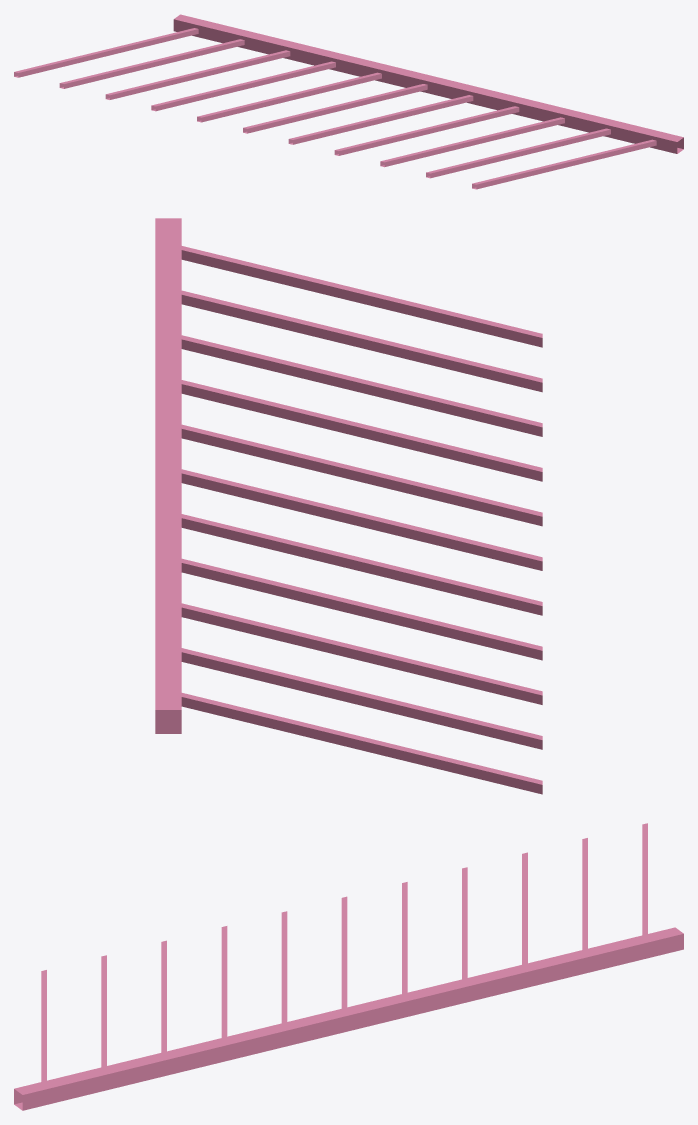
File: StepsHandle.fbx
3 views of the same model, one above another, from view 1: azimuth 30°, elevation 25°; view 2: azimuth 150°, elevation 25°; view 3: azimuth 270°, elevation 25° (orthographic). The views are drawn at different scales.
Parts seen in each view (by area): view 1: StepsHandles; view 2: StepsHandles; view 3: StepsHandles.
Part boxes in pixels (box(x1,y1,x2,y2)): StepsHandles: box(14, 14, 683, 189); StepsHandles: box(155, 218, 542, 794); StepsHandles: box(14, 823, 683, 1110).
Bounding box in the file's own units: 37.25 × 38.11 × 0.9907.
